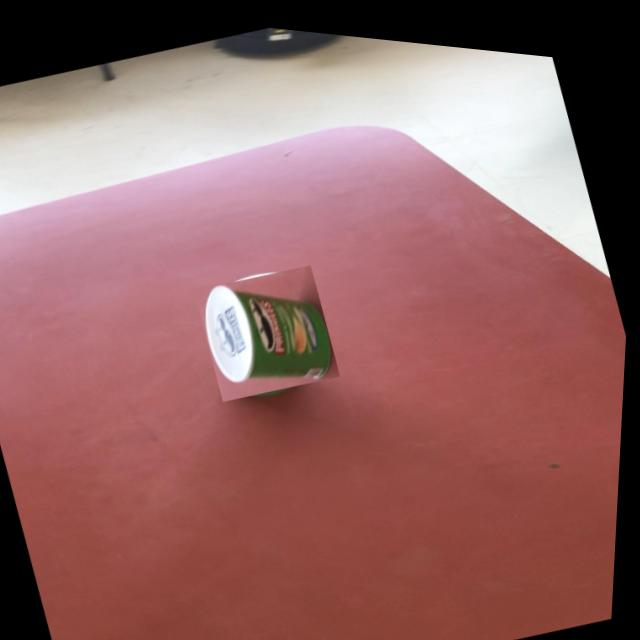a pringles: (194, 247, 348, 407)
